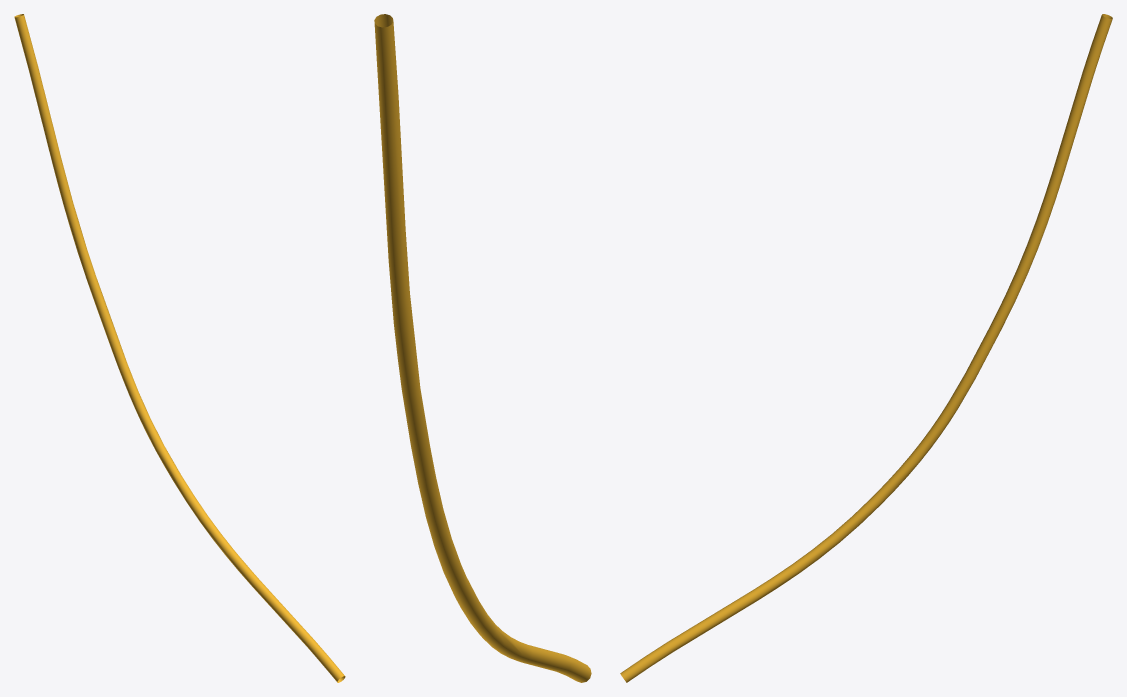
File: nervoso-subclavian-nerve-l.glb
3 renders of one model, left to right at view 1: azimuth 30°, elevation 25°; view 2: azimuth 150°, elevation 25°; view 3: azimuth 270°, elevation 25°, orthographic. The views are drawn at different scales.
Parts seen in each view (by area): view 1: Subclavian nerve.l; view 2: Subclavian nerve.l; view 3: Subclavian nerve.l.
Boxes of the visible parts, x1,y1,x2,y2 form: Subclavian nerve.l: (14,14,345,682); Subclavian nerve.l: (374,14,591,682); Subclavian nerve.l: (620,14,1112,682).
Bounding box in the file's own units: 0.013 × 0.0574 × 0.0421.
